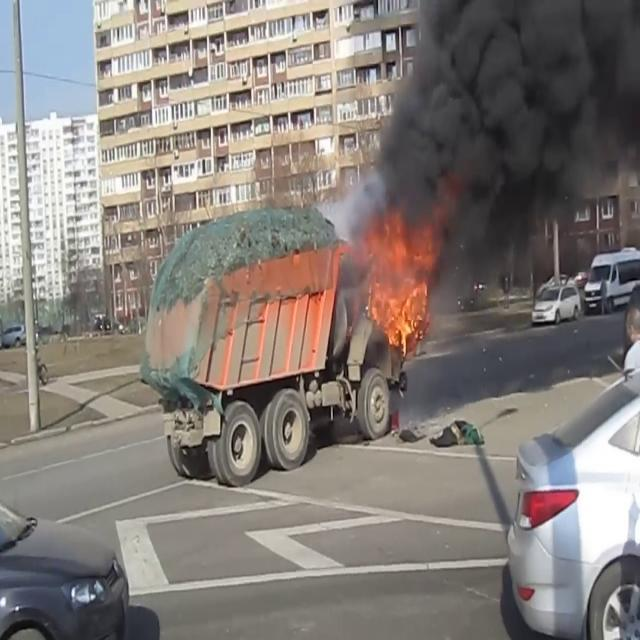Fire: (361, 213, 441, 351)
Smoke: (366, 0, 640, 257)
